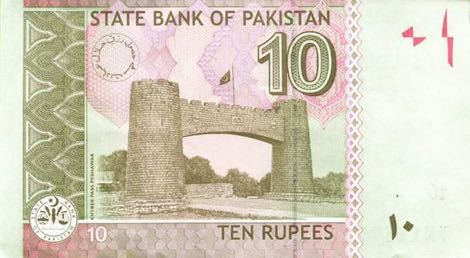10 rupee: (1, 1, 470, 258)
